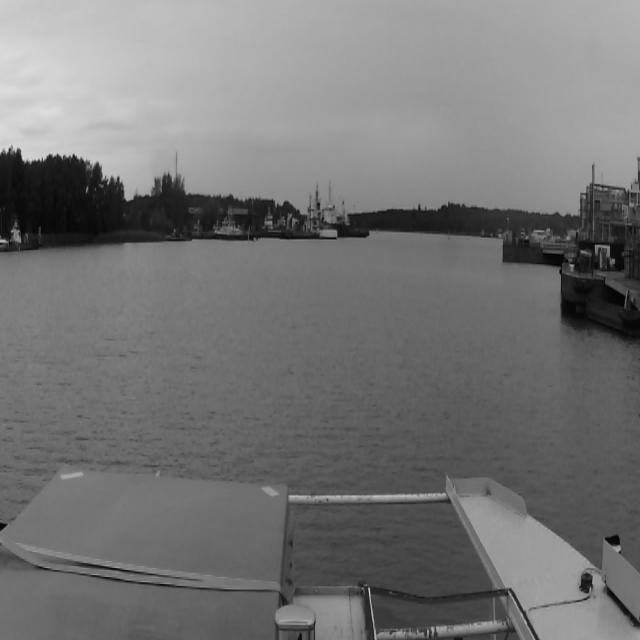buoy: (247, 227, 250, 244), (448, 230, 450, 241), (376, 228, 378, 234)
ship: (304, 181, 370, 241), (201, 209, 270, 252), (303, 183, 337, 241)
